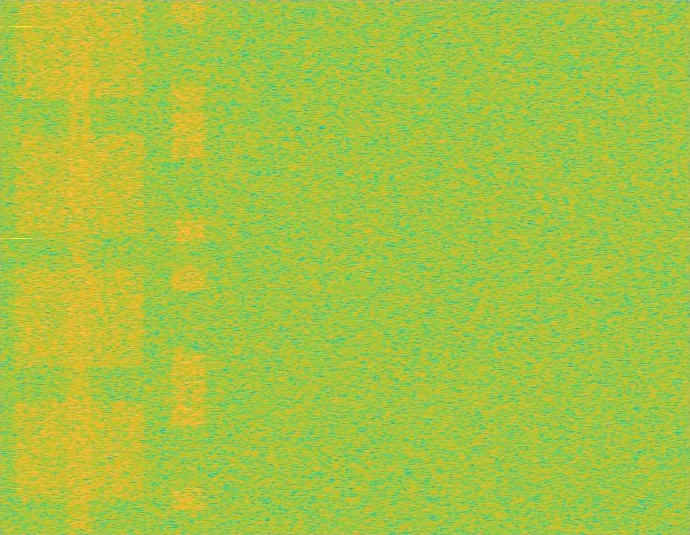5G: (11, 0, 149, 534)
DSSS: (64, 0, 95, 534)
LTE: (171, 0, 206, 534)
Radar: (14, 0, 28, 534)
